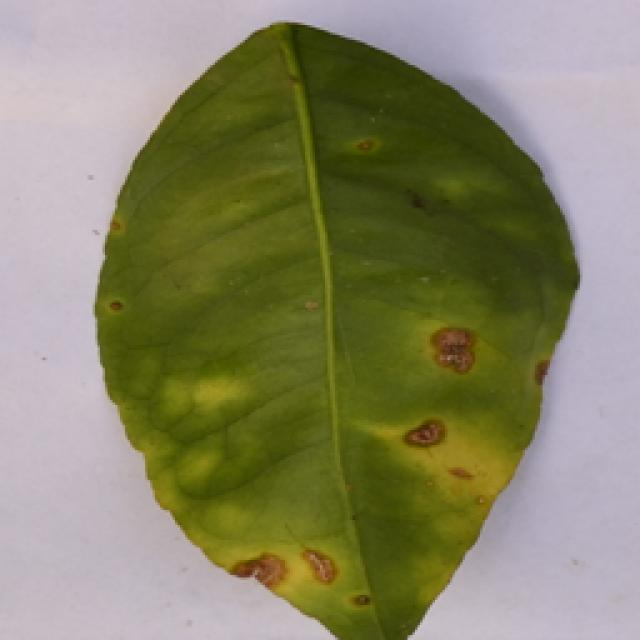canker: (110, 30, 568, 640)
